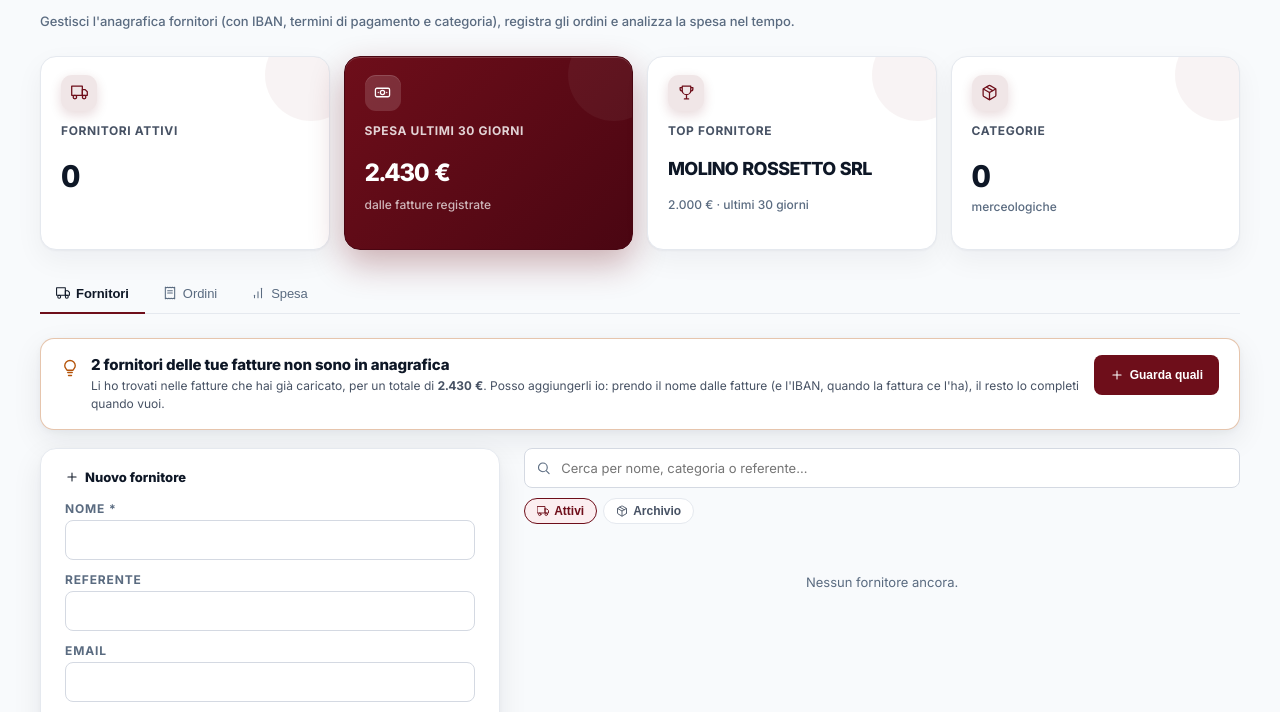
Test case: i fornitori che sono già nelle fatture › vengono proposti, e quelli che non sono merce restano senza spunta
The image size is (1280, 712).
Click the button "Guarda quali": (1156, 375) [1094,355,1219,395]
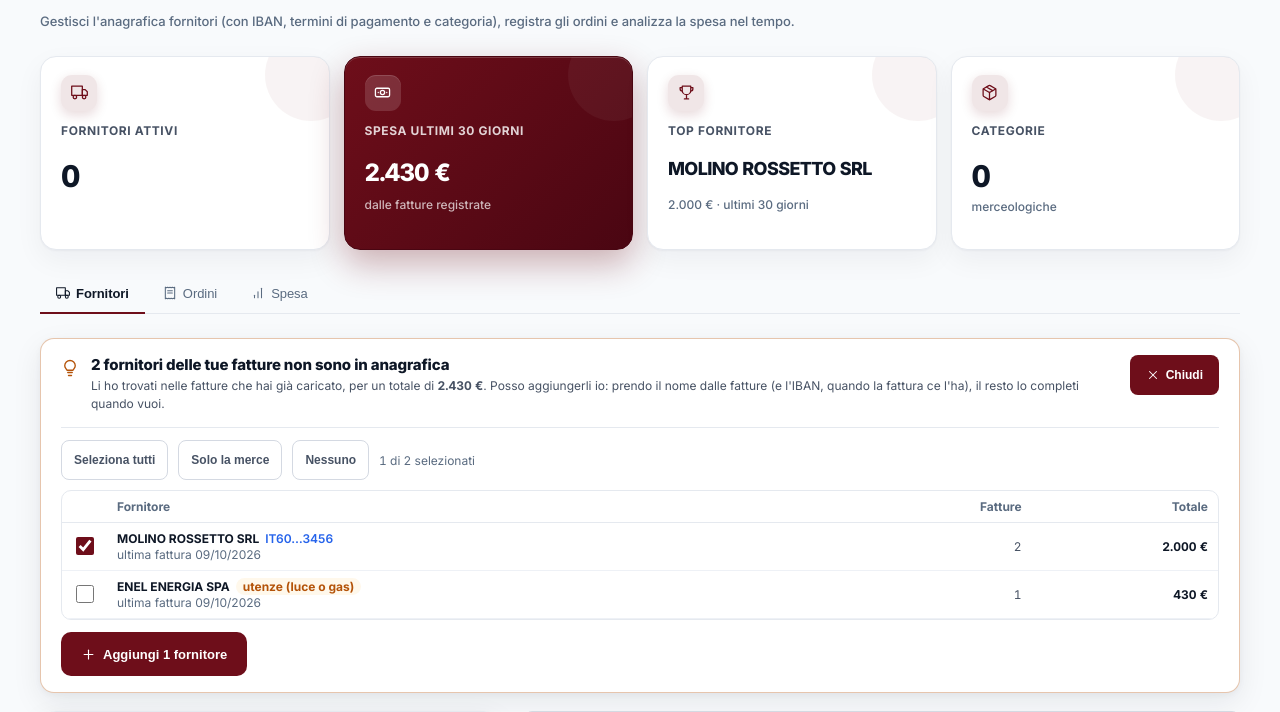
Check: the text "2.000 €" is shown, box [668,196,809,212]
Check: the text "utenze (luce o gas)" is shown, box [236,578,361,595]
